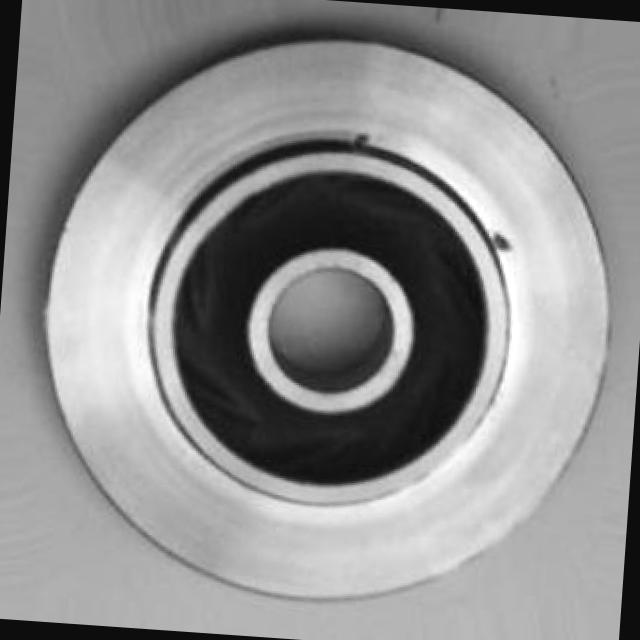Defect: (350, 128, 370, 153)
